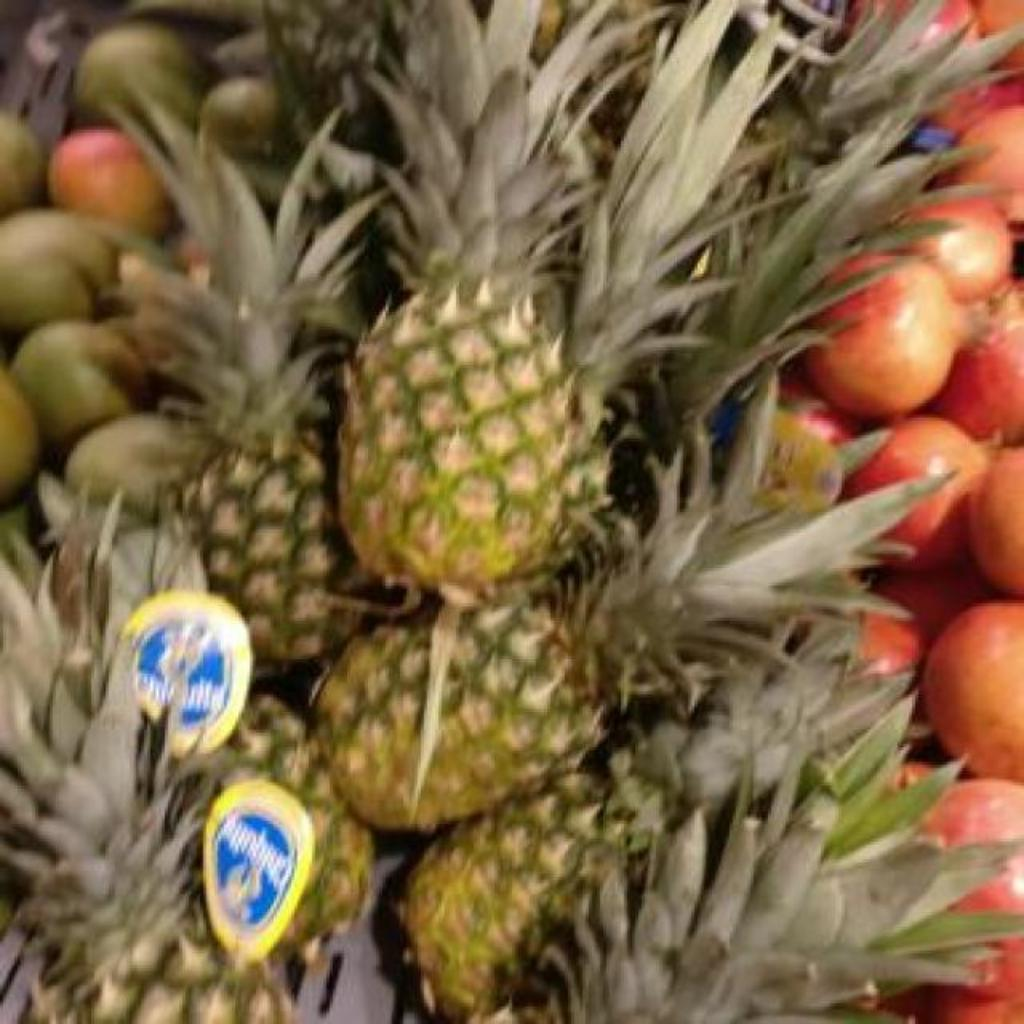pineapple: (340, 0, 604, 823), (316, 483, 928, 829), (402, 614, 918, 1015), (0, 564, 294, 1023), (563, 14, 808, 410), (182, 144, 360, 661), (216, 694, 374, 949)
